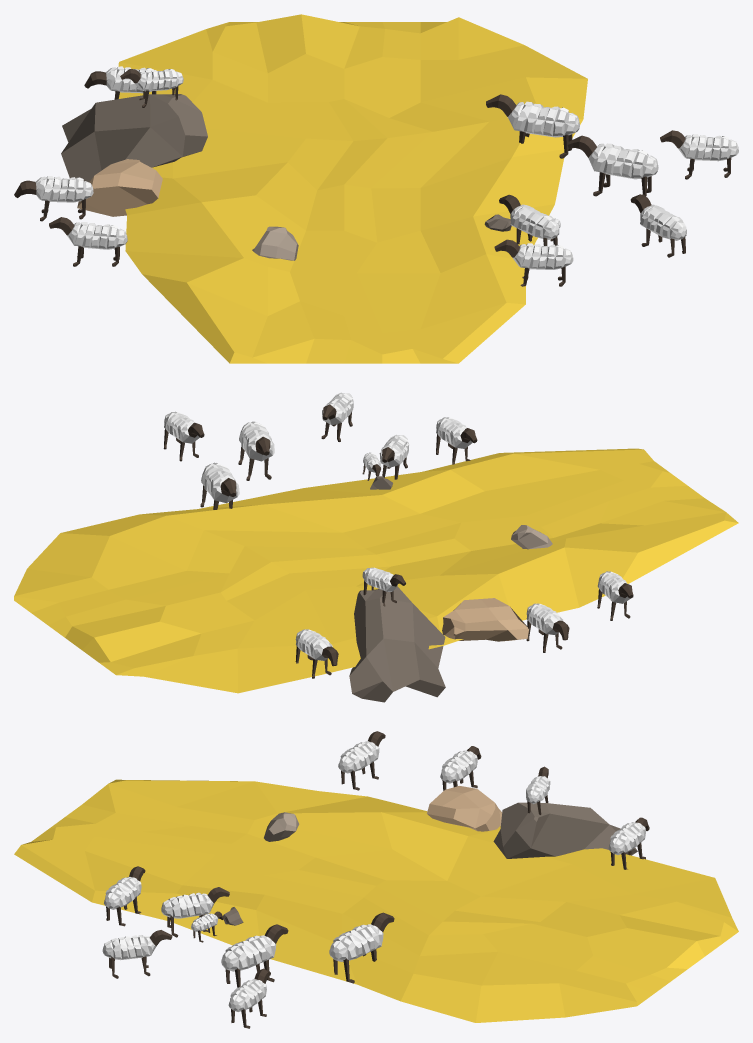
The model's file is street4_03_3.fbx.
The picture shows the model from 3 angles, top to bottom: view 1: azimuth 30°, elevation 25°; view 2: azimuth 150°, elevation 25°; view 3: azimuth 270°, elevation 25°; orthographic projection. The views are drawn at different scales.
Parts seen in each view (by area): view 1: sandWay03x03, stones.025, stones.024, sheep.001, sheep.005, sheep.002, sheep.010, sheep.007, sheep.004, sheep.006, sheep, sheep.003 (+2 smaller); view 2: sandWay03x03, stones.025, stones.024, sheep.001, sheep.005, sheep.009, sheep.010, sheep.004, sheep.007, sheep.002, sheep.006, sheep (+2 smaller); view 3: sandWay03x03, stones.025, stones.024, sheep.005, sheep.001, sheep.006, sheep, sheep.002, sheep.007, sheep.004, sheep.009, sheep.010 (+3 smaller).
Part boxes in pixels (box(x1,y1,x2,y2)): sandWay03x03: box(118, 14, 587, 363); stones.025: box(61, 94, 207, 182); stones.024: box(77, 159, 162, 216); sheep.001: box(567, 135, 658, 196); sheep.005: box(486, 94, 579, 158); sheep.002: box(49, 217, 127, 266); sheep.010: box(14, 176, 93, 221); sheep.007: box(660, 130, 738, 179); sheep.004: box(494, 239, 573, 286); sheep.006: box(630, 194, 686, 257); sheep: box(499, 194, 559, 245); sheep.003: box(120, 69, 183, 107); sandWay03x03: box(14, 448, 738, 693); stones.025: box(349, 586, 445, 702); stones.024: box(442, 598, 528, 641); sheep.001: box(238, 421, 274, 480); sheep.005: box(200, 462, 239, 509); sheep.009: box(295, 629, 338, 678); sheep.010: box(526, 603, 569, 652); sheep.004: box(436, 417, 477, 464); sheep.007: box(163, 411, 204, 461); sheep.002: box(597, 571, 633, 620); sheep.006: box(321, 392, 353, 441); sheep: box(379, 434, 408, 479); sandWay03x03: box(14, 779, 738, 1022); stones.025: box(493, 802, 637, 858); stones.024: box(427, 786, 502, 831); sheep.005: box(329, 912, 394, 983); sheep.001: box(221, 924, 288, 987); sheep.006: box(102, 930, 172, 978); sheep: box(161, 887, 229, 937); sheep.002: box(338, 731, 385, 790); sheep.007: box(228, 968, 270, 1028); sheep.004: box(104, 866, 145, 926); sheep.009: box(608, 817, 649, 869); sheep.010: box(440, 746, 481, 790).
Bounding box in the file's own units: 85.45 × 17.87 × 99.3.
